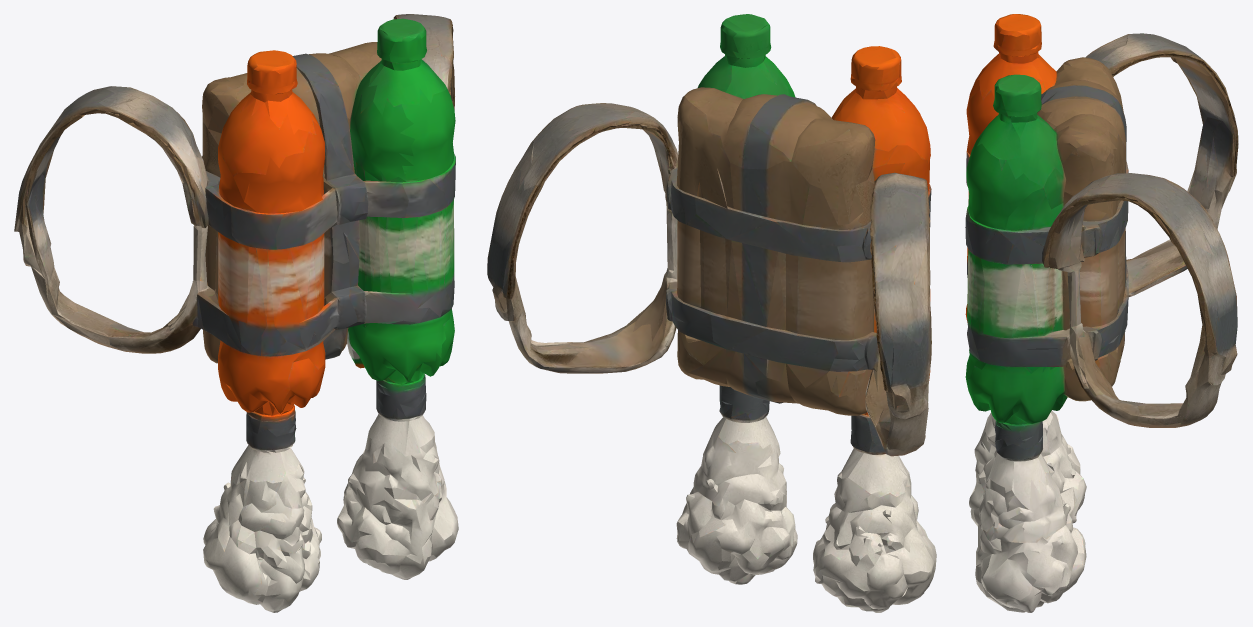
The model's file is soda_jetpack.glb.
3 renders of one model, left to right at view 1: azimuth 30°, elevation 25°; view 2: azimuth 150°, elevation 25°; view 3: azimuth 270°, elevation 25°, orthographic. The views are drawn at different scales.
Parts seen in each view (by area): view 1: Mesh_0; view 2: Mesh_0; view 3: Mesh_0.
Boxes of the visible parts, x1,y1,x2,y2 form: Mesh_0: (14,14,458,612); Mesh_0: (487,14,936,612); Mesh_0: (965,14,1238,612).
Bounding box in the file's own units: 0.828 × 1 × 0.4679.
1 material, 1 textured.
